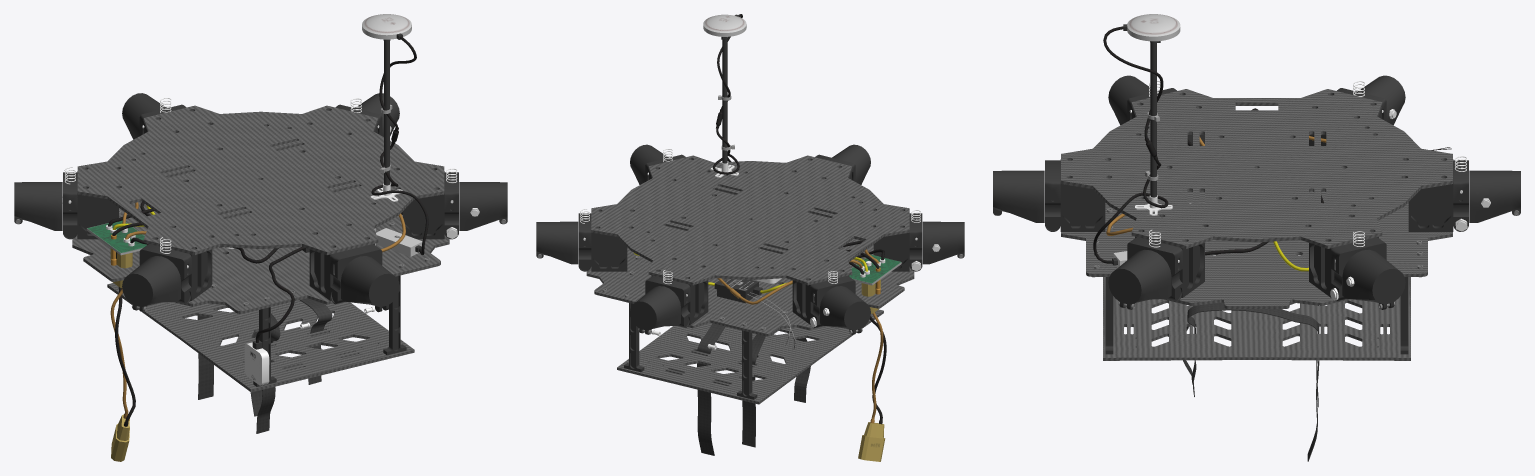
File: body2.fbx
The picture shows the model from 3 angles, left to right: view 1: azimuth 30°, elevation 25°; view 2: azimuth 150°, elevation 25°; view 3: azimuth 270°, elevation 25°; orthographic projection. The views are drawn at different scales.
Visible parts, largest first — view 1: Body, Body.003, Body.006, Body.002, Body.001, Body.005, Body.004; view 2: Body, Body.004, Body.005, Body.001, Body.006, Body.002, Body.003; view 3: Body, Body.002, Body.005, Body.003, Body.004, Body.006, Body.001.
Boxes of the visible parts, <box> form: Body: <box>15,14,506,461</box>; Body.003: <box>403,171,507,239</box>; Body.006: <box>14,171,118,239</box>; Body.002: <box>309,243,399,312</box>; Body.001: <box>122,243,212,312</box>; Body.005: <box>122,93,186,139</box>; Body.004: <box>335,93,399,136</box>; Body: <box>537,14,963,461</box>; Body.004: <box>536,213,627,271</box>; Body.005: <box>630,275,708,334</box>; Body.001: <box>873,213,964,271</box>; Body.006: <box>792,275,870,334</box>; Body.002: <box>815,144,870,184</box>; Body.003: <box>630,144,685,184</box>; Body: <box>1061,14,1519,461</box>; Body.002: <box>993,159,1105,231</box>; Body.005: <box>1408,159,1520,231</box>; Body.003: <box>1108,236,1204,309</box>; Body.004: <box>1309,236,1405,309</box>; Body.006: <box>1309,75,1405,145</box>; Body.001: <box>1108,75,1204,145</box>.
Size of the model in its own units: 218 by 202 by 224.
